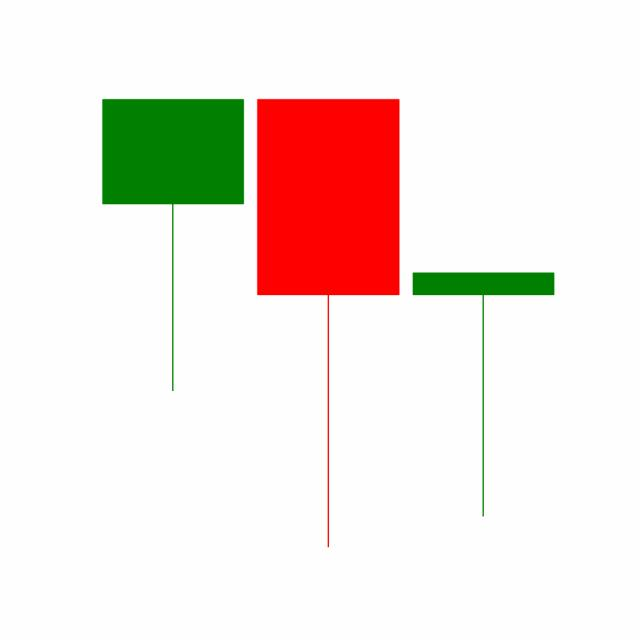Hanging Man: (405, 269, 561, 519)
